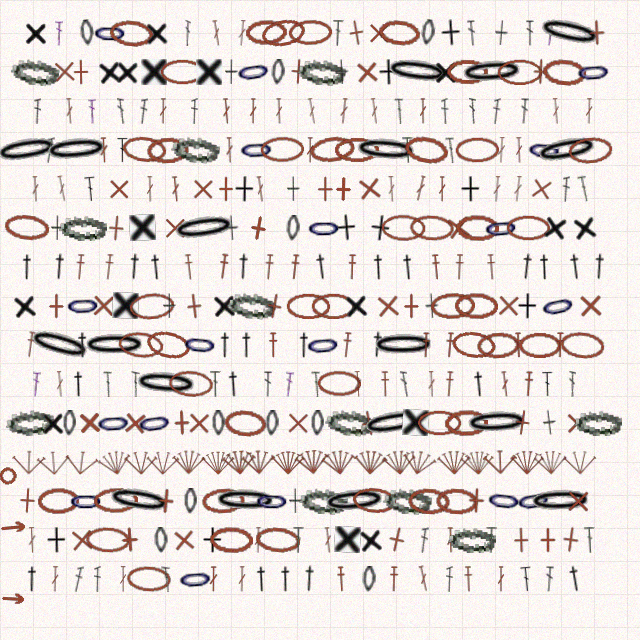chain: (25, 324, 94, 366), (535, 13, 604, 52), (533, 131, 601, 169), (360, 405, 428, 441), (105, 483, 173, 518), (170, 211, 238, 245), (384, 55, 451, 88), (0, 132, 61, 168), (321, 485, 388, 517), (43, 134, 110, 165), (133, 368, 199, 399), (459, 57, 525, 87), (353, 135, 419, 165), (464, 408, 530, 437), (528, 487, 593, 515), (213, 487, 278, 514), (82, 332, 147, 358), (371, 332, 436, 358), (144, 327, 192, 362), (259, 16, 308, 49), (402, 133, 450, 166), (5, 407, 55, 438), (10, 57, 60, 87), (308, 134, 356, 165), (450, 329, 498, 360), (121, 134, 168, 165), (3, 212, 50, 243), (171, 135, 220, 164), (227, 291, 276, 320), (325, 408, 374, 437), (567, 135, 614, 165), (128, 291, 175, 321), (117, 330, 164, 360), (559, 330, 606, 360), (254, 525, 301, 555), (108, 18, 154, 48), (541, 57, 587, 87), (297, 58, 346, 86), (299, 487, 348, 515), (383, 487, 432, 515), (377, 18, 422, 48), (223, 408, 268, 438), (168, 369, 214, 398), (351, 486, 397, 515), (85, 526, 131, 554), (538, 290, 578, 322), (409, 214, 454, 242), (476, 331, 521, 359), (201, 487, 246, 515), (126, 565, 171, 593), (59, 215, 107, 241), (574, 410, 622, 436), (448, 527, 496, 553), (146, 136, 190, 164), (407, 487, 451, 515), (435, 487, 479, 515), (288, 19, 333, 46), (381, 214, 426, 241), (430, 292, 475, 319), (93, 487, 138, 514), (234, 56, 273, 87), (514, 485, 553, 516), (260, 136, 304, 163), (455, 214, 499, 241), (454, 292, 498, 319), (317, 370, 361, 397), (444, 409, 488, 436), (209, 526, 253, 553), (160, 59, 205, 85), (497, 59, 542, 85), (334, 137, 379, 163), (135, 408, 174, 438), (417, 410, 462, 436), (245, 19, 288, 46), (37, 487, 80, 514), (455, 137, 499, 163), (506, 215, 550, 241), (286, 293, 330, 319), (311, 293, 355, 319), (518, 332, 562, 358), (446, 59, 489, 85), (181, 330, 219, 359), (485, 486, 523, 515), (482, 214, 520, 242), (304, 331, 342, 359), (575, 58, 612, 86), (526, 136, 563, 164), (95, 409, 132, 437), (177, 565, 214, 593), (238, 136, 275, 163), (65, 292, 101, 319), (92, 20, 128, 46), (306, 215, 342, 241), (68, 488, 104, 514), (254, 488, 290, 514), (79, 19, 95, 46), (420, 19, 436, 46), (271, 59, 285, 85), (286, 215, 300, 241), (265, 410, 279, 436), (154, 527, 168, 553), (362, 566, 376, 592), (63, 410, 76, 436), (212, 410, 225, 436), (311, 410, 324, 436), (184, 488, 197, 514)
double: (414, 175, 427, 202), (577, 175, 590, 202), (417, 565, 430, 592), (84, 176, 97, 202), (520, 566, 533, 592), (56, 175, 68, 202), (332, 20, 344, 46), (306, 98, 318, 124), (402, 137, 414, 163), (584, 527, 596, 553), (211, 20, 222, 46), (545, 20, 556, 46), (221, 98, 232, 124), (369, 98, 380, 124), (117, 137, 128, 163), (445, 137, 456, 163), (170, 176, 181, 202), (255, 176, 266, 202), (210, 371, 221, 397), (542, 371, 553, 397), (293, 527, 304, 553), (486, 527, 497, 553), (73, 566, 84, 592), (161, 566, 172, 592), (237, 20, 247, 46), (467, 20, 477, 46), (339, 98, 349, 124), (394, 98, 404, 124), (551, 98, 561, 124), (45, 137, 55, 163), (99, 137, 109, 163), (492, 176, 502, 202), (513, 176, 523, 202), (31, 371, 41, 397), (55, 371, 65, 397), (284, 371, 294, 397), (311, 371, 321, 397), (353, 371, 363, 397), (500, 371, 510, 397), (27, 527, 37, 553), (323, 527, 333, 553), (419, 527, 429, 553), (65, 98, 74, 124), (139, 98, 148, 124), (492, 98, 501, 124), (520, 98, 529, 124), (225, 137, 234, 163), (497, 137, 506, 163), (31, 176, 40, 202), (387, 176, 396, 202), (103, 371, 112, 397), (131, 371, 140, 397), (400, 371, 409, 397), (427, 371, 436, 397), (446, 527, 455, 553), (209, 566, 218, 592), (545, 566, 554, 592), (55, 20, 63, 46), (526, 20, 534, 46), (88, 98, 96, 124), (117, 98, 125, 124), (159, 98, 167, 124), (249, 98, 257, 124), (275, 98, 283, 124), (419, 98, 427, 124), (441, 98, 449, 124), (585, 98, 593, 124), (306, 137, 314, 163), (515, 137, 523, 163), (146, 176, 154, 202), (438, 176, 446, 202), (562, 176, 570, 202), (264, 371, 272, 397), (568, 371, 576, 397), (254, 527, 262, 553), (51, 566, 59, 592), (119, 566, 127, 592), (238, 566, 246, 592), (497, 566, 505, 592), (184, 20, 191, 46), (34, 98, 41, 124), (191, 98, 198, 124), (469, 98, 476, 124), (94, 566, 101, 592), (446, 566, 453, 592)
fan: (96, 446, 134, 478), (400, 446, 438, 478), (63, 447, 100, 477), (320, 447, 357, 477), (294, 447, 330, 476), (221, 448, 257, 476), (381, 448, 417, 476), (36, 448, 71, 476), (353, 448, 388, 476), (460, 448, 495, 476), (241, 448, 276, 475), (533, 448, 568, 475), (12, 448, 46, 475), (172, 448, 206, 475), (483, 448, 517, 475), (563, 448, 597, 475), (124, 449, 158, 475), (146, 449, 180, 475), (201, 449, 235, 475), (271, 449, 305, 475), (437, 449, 471, 475), (510, 449, 544, 475)
half_double: (518, 253, 536, 280), (566, 565, 584, 592), (51, 253, 68, 280), (126, 253, 143, 280), (235, 253, 252, 280), (313, 253, 330, 280), (567, 253, 584, 280), (591, 253, 608, 280), (369, 331, 386, 358), (301, 565, 318, 592), (19, 254, 35, 280), (148, 254, 164, 280), (400, 254, 416, 280), (217, 332, 233, 358), (296, 332, 312, 358), (471, 371, 487, 397), (24, 566, 40, 592), (371, 254, 386, 280), (537, 254, 552, 280), (75, 332, 90, 358), (239, 332, 254, 358), (71, 371, 86, 397), (226, 371, 241, 397), (254, 566, 269, 592), (278, 566, 293, 592), (217, 253, 230, 280), (24, 331, 37, 358), (74, 254, 86, 280), (103, 254, 115, 280), (183, 254, 195, 280), (263, 254, 275, 280), (289, 254, 301, 280), (430, 254, 442, 280), (341, 332, 353, 358), (444, 332, 456, 358), (454, 254, 465, 280), (486, 254, 497, 280), (513, 332, 524, 358), (444, 371, 455, 397), (523, 371, 534, 397), (463, 566, 474, 592), (347, 254, 357, 280), (268, 332, 278, 358), (421, 332, 431, 358), (555, 332, 565, 358), (380, 371, 390, 397), (336, 566, 346, 592), (389, 566, 399, 592)
noise: (0, 465, 19, 487), (0, 521, 27, 533), (1, 593, 26, 604)
single: (381, 524, 412, 555), (243, 213, 273, 243), (259, 291, 289, 321), (354, 408, 384, 438), (527, 174, 556, 204), (342, 18, 371, 47), (355, 174, 384, 203), (444, 213, 473, 242), (508, 408, 537, 437), (556, 525, 585, 554), (571, 213, 599, 242), (353, 58, 381, 86), (102, 214, 130, 242), (180, 292, 208, 320), (374, 292, 402, 320), (121, 409, 149, 437), (152, 487, 180, 515), (68, 526, 96, 554), (170, 526, 198, 554), (542, 213, 569, 242), (583, 19, 610, 46), (51, 58, 78, 85), (285, 58, 312, 85), (527, 58, 554, 85), (129, 214, 156, 241), (90, 292, 117, 319), (112, 292, 139, 319), (495, 292, 522, 319), (577, 292, 604, 319), (76, 409, 103, 436), (168, 409, 195, 436), (402, 409, 429, 436), (14, 487, 41, 514), (463, 487, 490, 514), (116, 526, 143, 553), (334, 526, 361, 553), (97, 58, 123, 86), (12, 292, 38, 320), (358, 526, 384, 554), (366, 20, 392, 46), (68, 59, 94, 85), (141, 59, 167, 85), (196, 59, 222, 85), (106, 176, 132, 202), (190, 176, 216, 202), (213, 176, 239, 202), (312, 176, 338, 202), (330, 176, 356, 202), (162, 215, 188, 241), (43, 293, 69, 319), (398, 293, 424, 319), (186, 410, 212, 436), (285, 410, 311, 436), (564, 410, 590, 436), (565, 488, 591, 514), (508, 527, 534, 553), (535, 527, 561, 553), (212, 292, 237, 319), (344, 292, 369, 319), (115, 59, 140, 85), (24, 20, 48, 46), (145, 20, 169, 46), (434, 59, 458, 85), (41, 410, 65, 436), (369, 214, 391, 242), (335, 214, 357, 241), (440, 19, 461, 46), (378, 59, 398, 85), (234, 176, 254, 202), (460, 176, 480, 202), (517, 293, 537, 319), (46, 527, 66, 553), (202, 527, 222, 553), (542, 409, 557, 436), (494, 20, 509, 46), (335, 59, 349, 85), (225, 215, 239, 241), (425, 293, 439, 319), (225, 59, 238, 85), (287, 176, 300, 202), (51, 215, 64, 241), (163, 293, 176, 319), (289, 488, 302, 514)
